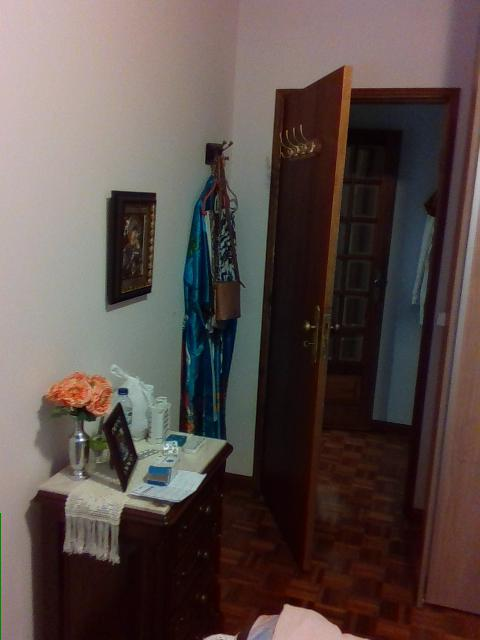semi_door: (251, 63, 460, 572)
